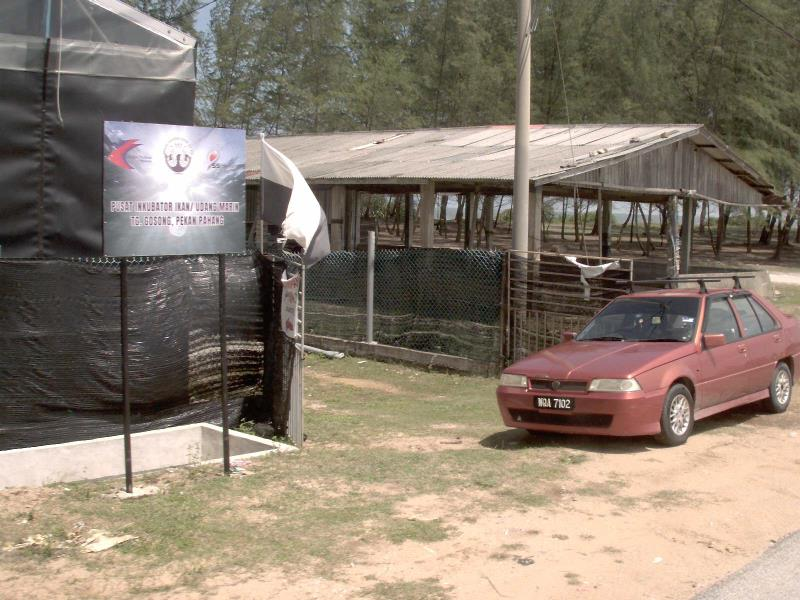ads_sign: (94, 111, 260, 271)
